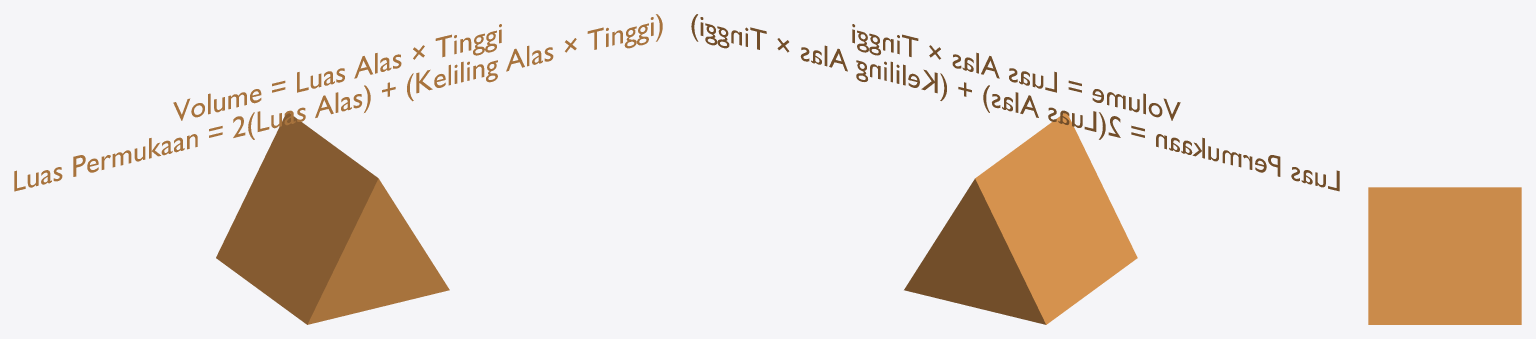
File: prisma.glb
The picture shows the model from 3 angles, left to right: view 1: azimuth 30°, elevation 25°; view 2: azimuth 150°, elevation 25°; view 3: azimuth 270°, elevation 25°; orthographic projection. The views are drawn at different scales.
Parts seen in each view (by area): view 1: world.001, Text; view 2: world.001, Text; view 3: world.001.
Boxes of the visible parts, bbox=[...] form: world.001: bbox=[216, 113, 449, 324]; Text: bbox=[14, 14, 662, 191]; world.001: bbox=[904, 113, 1137, 324]; Text: bbox=[691, 14, 1339, 191]; world.001: bbox=[1368, 187, 1521, 324].
Size of the model in its own units: 4.09 by 1.27 by 1.
